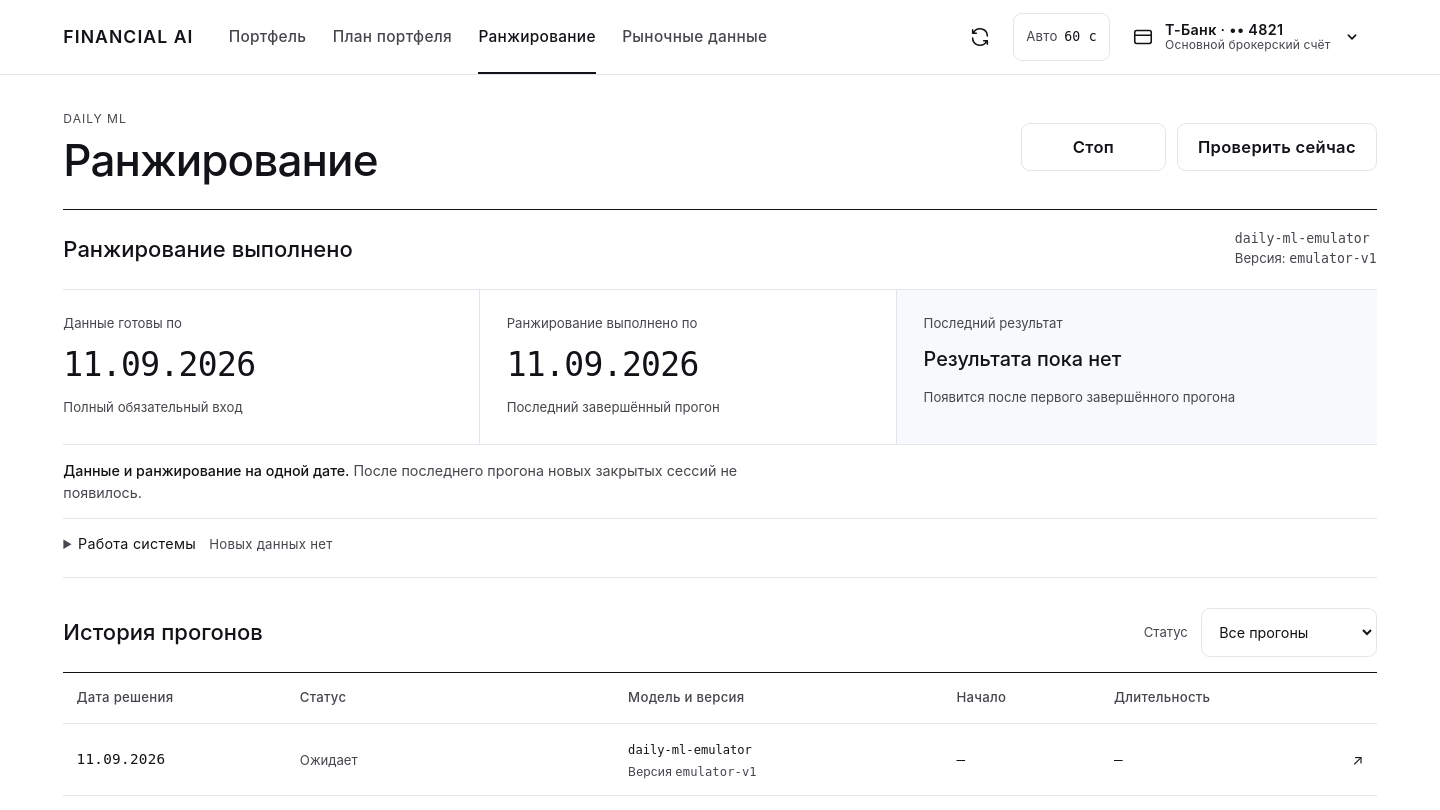
Test: просмотр прогона › прогон без результата говорит, что результата нет, а не показывает пустую таблицу
What coordinates should you click on to do the following:
click the button named "Открыть прогон за"
I would click on:
 (121, 760)
Its box is left=76, top=735, right=165, bottom=784.
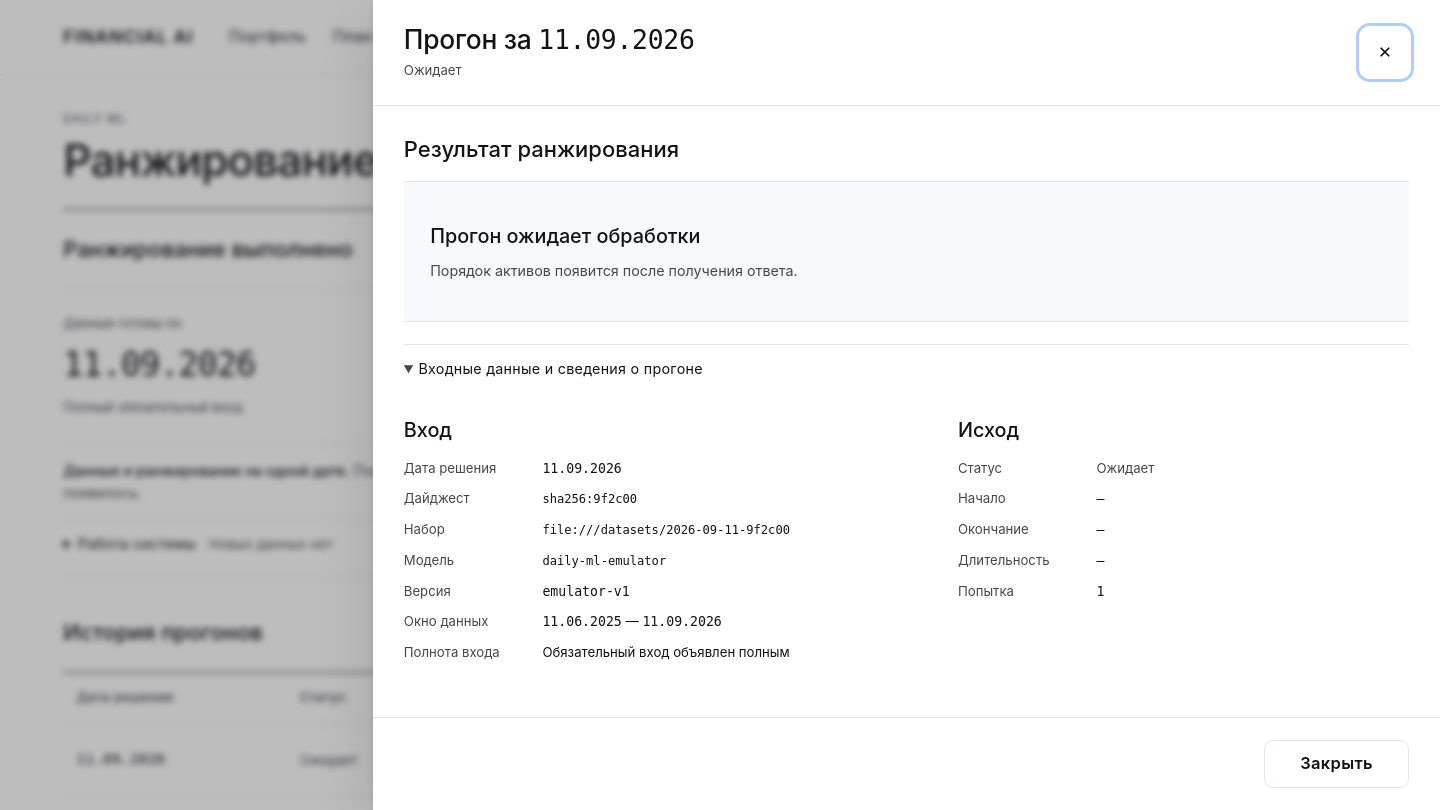
Now the heading "Прогон ожидает обработки" is shown, box left=430, top=224, right=700, bottom=248
